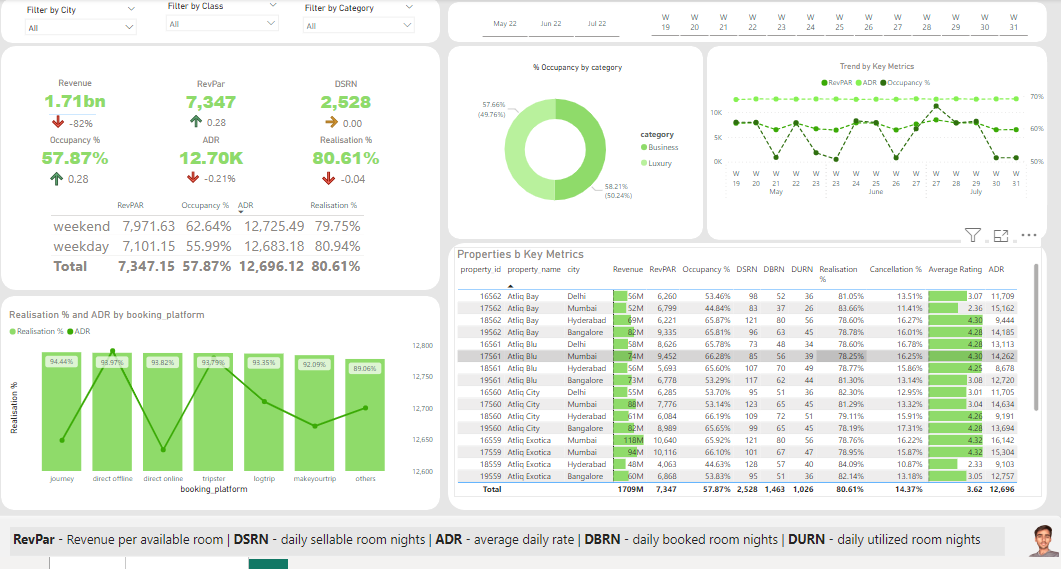

The page's visual inventory and layout, read from the dashboard file:
{"tool":"powerbi","page":{"name":"Page 1","canvas":[1800,1100],"ordinal":0},"visuals":[{"type":"shape","box":[768.3,523,998.3,445],"z":0},{"type":"shape","box":[23.3,611.3,731.7,356.7],"z":1000},{"type":"shape","box":[1200,194.7,566.7,323.3],"z":2000},{"type":"shape","box":[768.3,194.7,425,321.7],"z":3000},{"type":"shape","box":[23.3,194.7,731.7,406.7],"z":4000},{"type":"shape","box":[768.3,121.3,998.3,66.7],"z":5000},{"type":"shape","box":[23.3,114.7,731.7,75],"z":6000},{"type":"tableEx","fields":{"Values":["key_measures.RevPAR WoW change %"]},"box":[326.3,275.7,92,68],"z":7000},{"type":"tableEx","fields":{"Values":["key_measures.Realisation WoW change %"]},"box":[546,370,102,68],"z":8000},{"type":"tableEx","fields":{"Values":["key_measures.ADR WoW change %"]},"box":[322.3,367.7,104,68],"z":9000},{"type":"tableEx","fields":{"Values":["key_measures.Occupancy WoW change %"]},"box":[94,370,100,68],"z":10000},{"type":"tableEx","fields":{"Values":["key_measures.DSRN WoW change %"]},"box":[554,276,90,68],"z":11000},{"type":"tableEx","fields":{"Values":["key_measures.Revenue WoW change %"]},"box":[96,276,102,68],"z":12000},{"type":"tableEx","title":"Properties b Key Metrics","fields":{"Values":["dim_hotels.property_id","dim_hotels.property_name","dim_hotels.city","key_measures.Revenue","key_measures.RevPAR","key_measures.Occupancy %","key_measures.DSRN","key_measures.DBRN","key_measures.DURN","key_measures.Realisation %","key_measures.Cancellation %","key_measures.Average Rating"]},"box":[778.3,529.7,980,416.7],"z":13000},{"type":"slicer","title":"Filter by City","fields":{"Values":["dim_hotels.city"]},"box":[52.5,121.2,206.2,66.2],"z":14000},{"type":"slicer","title":"Filter by Room","fields":{"Values":["dim_rooms.room_class"]},"box":[287.5,115,207.5,72.5],"z":15000},{"type":"slicer","fields":{"Values":["dim_date.mmm yy"]},"box":[800,126.3,278.3,60],"z":16000},{"type":"slicer","fields":{"Values":["dim_date.week no"]},"box":[1081.7,124.7,676.7,60],"z":17000},{"type":"card","title":"Revenue","fields":{"Values":["key_measures.Revenue"]},"box":[85,249,123,61],"z":18000},{"type":"donutChart","title":"% Occupancy by category","fields":{"Category":["dim_hotels.category"],"Y":["key_measures.Occupancy %"]},"box":[800,223,368.3,273.3],"z":19000},{"type":"card","title":"RevPar","fields":{"Values":["key_measures.RevPAR"]},"box":[311.5,250,122.9,60],"z":20000},{"type":"card","title":"DSRN","fields":{"Values":["key_measures.DSRN"]},"box":[536.1,249.8,122.7,60.7],"z":21000},{"type":"card","title":"Occupancy %","fields":{"Values":["key_measures.Occupancy %"]},"box":[84.9,344,123,61],"z":22000},{"type":"card","title":"ADR","fields":{"Values":["key_measures.ADR"]},"box":[311.4,343.9,123,61],"z":23000},{"type":"card","title":"Realisation %","fields":{"Values":["key_measures.Realisation %"]},"box":[536.5,343.4,123,61],"z":24000},{"type":"lineChart","title":"Trend by Key Metrics","fields":{"Category":["dim_date.mmm yy.Variation.Date Hierarchy.Month","dim_date.week no"],"Y":["key_measures.RevPAR","key_measures.ADR"],"Y2":["key_measures.Occupancy %"]},"box":[1200,221.3,566.7,238.3],"z":25000},{"type":"lineStackedColumnComboChart","fields":{"Category":["fact_bookings.booking_platform"],"Y":["key_measures.Realisation %"],"Y2":["key_measures.ADR"]},"box":[31.7,631.3,716.7,315],"z":26000},{"type":"tableEx","fields":{"Values":["dim_date.day_type","key_measures.RevPAR","key_measures.Occupancy %","key_measures.ADR","key_measures.Realisation %"]},"box":[100,446.2,546.2,140],"z":27000},{"type":"slicer","title":"Filter by Room","fields":{"Values":["dim_hotels.category"]},"box":[516.2,117.5,206.2,70],"z":28000},{"type":"shape","box":[0,967.5,1800,105],"z":29000},{"type":"image","box":[1716.2,988.8,83.8,83.8],"z":30000},{"type":"textbox","box":[38,996,1658,48],"z":31000}]}

Visuals, with their boxes on the page's 1800x1100 design canvas (x1, y1, x2, y2). These are canvas units, not pixel positions in the 1061x569 screenshot, which may show the page scaled, cropped or inside an application window:
shape: BBox(768, 523, 1767, 968)
shape: BBox(23, 611, 755, 968)
shape: BBox(1200, 195, 1767, 518)
shape: BBox(768, 195, 1193, 516)
shape: BBox(23, 195, 755, 601)
shape: BBox(768, 121, 1767, 188)
shape: BBox(23, 115, 755, 190)
tableEx - key_measures.RevPAR WoW change %: BBox(326, 276, 418, 344)
tableEx - key_measures.Realisation WoW change %: BBox(546, 370, 648, 438)
tableEx - key_measures.ADR WoW change %: BBox(322, 368, 426, 436)
tableEx - key_measures.Occupancy WoW change %: BBox(94, 370, 194, 438)
tableEx - key_measures.DSRN WoW change %: BBox(554, 276, 644, 344)
tableEx - key_measures.Revenue WoW change %: BBox(96, 276, 198, 344)
"Properties b Key Metrics" tableEx: BBox(778, 530, 1758, 946)
"Filter by City" slicer: BBox(52, 121, 259, 187)
"Filter by Room" slicer: BBox(288, 115, 495, 188)
slicer - dim_date.mmm yy: BBox(800, 126, 1078, 186)
slicer - dim_date.week no: BBox(1082, 125, 1758, 185)
"Revenue" card: BBox(85, 249, 208, 310)
"% Occupancy by category" donutChart: BBox(800, 223, 1168, 496)
"RevPar" card: BBox(312, 250, 434, 310)
"DSRN" card: BBox(536, 250, 659, 310)
"Occupancy %" card: BBox(85, 344, 208, 405)
"ADR" card: BBox(311, 344, 434, 405)
"Realisation %" card: BBox(536, 343, 660, 404)
"Trend by Key Metrics" lineChart: BBox(1200, 221, 1767, 460)
lineStackedColumnComboChart - fact_bookings.booking_platform x key_measures.Realisation %: BBox(32, 631, 748, 946)
tableEx - dim_date.day_type x key_measures.RevPAR: BBox(100, 446, 646, 586)
"Filter by Room" slicer: BBox(516, 118, 722, 188)
shape: BBox(0, 968, 1800, 1072)
image: BBox(1716, 989, 1800, 1073)
textbox: BBox(38, 996, 1696, 1044)
